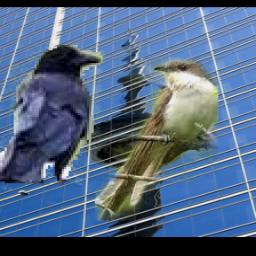Crow: (0, 43, 105, 185)
Cuckoo: (95, 57, 218, 221)
